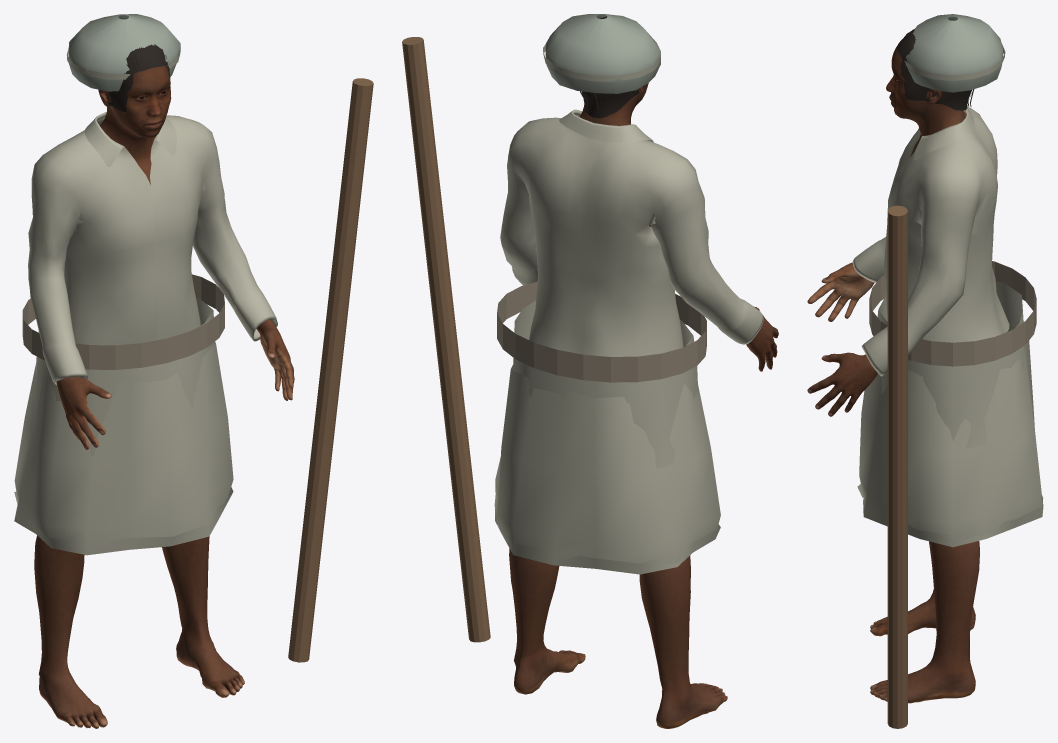
The model's file is burkundaz.glb.
3 renders of one model, left to right at view 1: azimuth 30°, elevation 25°; view 2: azimuth 150°, elevation 25°; view 3: azimuth 270°, elevation 25°, orthographic. The views are drawn at different scales.
Visible parts, largest first — view 1: Fitted cotton upper base_full_body_static, Knee length wrapped dhoti_full_body_static, village_farmer_MakeHuman_body_full_body_static, Wooden watch staff, Soft cotton head wrap_full_body_static, Burkundaz waist sash, Kurta loose lower panel_full_body_static, Dhoti woven border_full_body_static, Farmer_hair_full_body_static; view 2: Fitted cotton upper base_full_body_static, Knee length wrapped dhoti_full_body_static, village_farmer_MakeHuman_body_full_body_static, Wooden watch staff, Burkundaz waist sash, Soft cotton head wrap_full_body_static, Kurta loose lower panel_full_body_static, Dhoti woven border_full_body_static, Farmer_hair_full_body_static, Head wrap fold_full_body_static; view 3: Fitted cotton upper base_full_body_static, Knee length wrapped dhoti_full_body_static, village_farmer_MakeHuman_body_full_body_static, Wooden watch staff, Kurta loose lower panel_full_body_static, Soft cotton head wrap_full_body_static, Burkundaz waist sash, Dhoti woven border_full_body_static, Farmer_hair_full_body_static, Head wrap fold_full_body_static.
Boxes of the visible parts, x1,y1,x2,y2 form: Fitted cotton upper base_full_body_static: [28, 111, 277, 386]; Knee length wrapped dhoti_full_body_static: [14, 342, 233, 549]; village_farmer_MakeHuman_body_full_body_static: [34, 65, 294, 728]; Wooden watch staff: [288, 78, 373, 662]; Soft cotton head wrap_full_body_static: [68, 14, 180, 91]; Burkundaz waist sash: [22, 274, 224, 369]; Kurta loose lower panel_full_body_static: [30, 297, 215, 456]; Dhoti woven border_full_body_static: [14, 487, 233, 555]; Farmer_hair_full_body_static: [105, 44, 170, 111]; Fitted cotton upper base_full_body_static: [500, 109, 763, 356]; Knee length wrapped dhoti_full_body_static: [495, 364, 720, 567]; village_farmer_MakeHuman_body_full_body_static: [509, 83, 778, 728]; Wooden watch staff: [402, 37, 490, 642]; Burkundaz waist sash: [497, 281, 706, 382]; Soft cotton head wrap_full_body_static: [545, 14, 660, 93]; Kurta loose lower panel_full_body_static: [513, 300, 698, 468]; Dhoti woven border_full_body_static: [494, 495, 720, 574]; Farmer_hair_full_body_static: [580, 16, 645, 118]; Head wrap fold_full_body_static: [543, 44, 660, 81]; Fitted cotton upper base_full_body_static: [852, 107, 1009, 376]; Knee length wrapped dhoti_full_body_static: [859, 314, 1041, 538]; village_farmer_MakeHuman_body_full_body_static: [807, 45, 979, 703]; Wooden watch staff: [887, 205, 907, 728]; Kurta loose lower panel_full_body_static: [877, 281, 1025, 448]; Soft cotton head wrap_full_body_static: [906, 14, 1002, 92]; Burkundaz waist sash: [869, 261, 1036, 366]; Dhoti woven border_full_body_static: [857, 484, 1043, 547]; Farmer_hair_full_body_static: [897, 29, 974, 110]; Head wrap fold_full_body_static: [904, 43, 1005, 80].
Bounding box in the file's own units: 0.8689 × 1.67 × 0.5552.
Materials: 9 (2 with a texture image).
